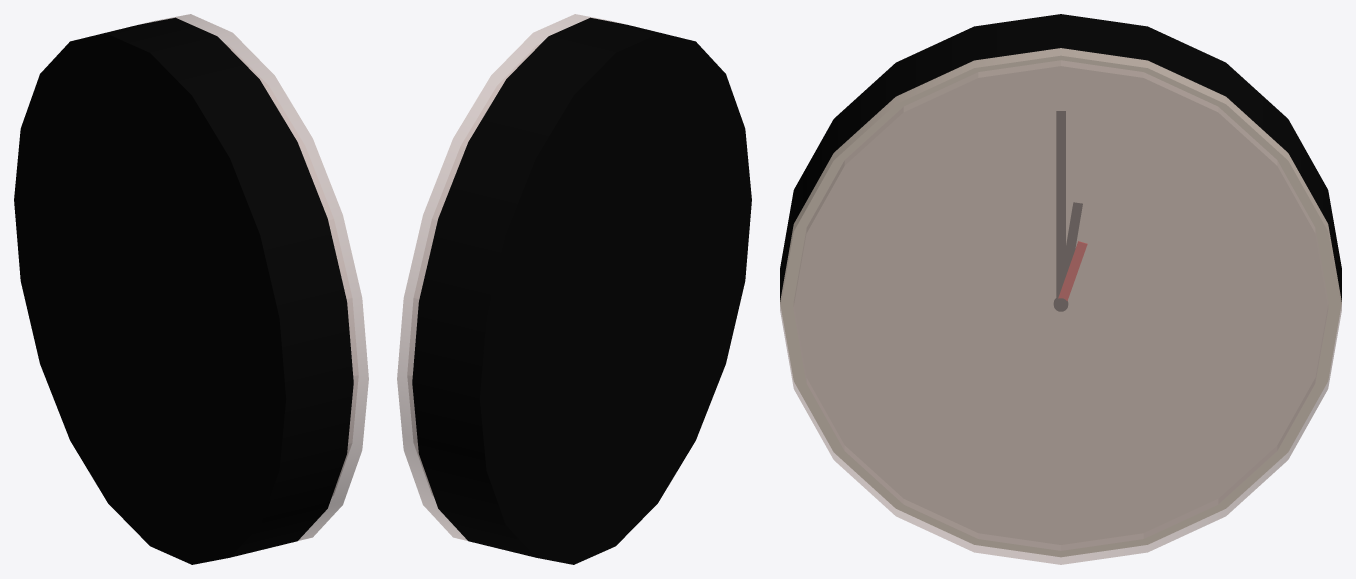
The model's file is reloj.fbx.
3 renders of one model, left to right at view 1: azimuth 30°, elevation 25°; view 2: azimuth 150°, elevation 25°; view 3: azimuth 270°, elevation 25°, orthographic. The views are drawn at different scales.
Parts seen in each view (by area): view 1: pCylinder27; view 2: pCylinder27; view 3: pCylinder27, pCube57, pCube58.
Part boxes in pixels (<box>): pCylinder27: <box>14,14,368,564</box>; pCylinder27: <box>397,14,751,564</box>; pCylinder27: <box>780,14,1341,564</box>; pCube57: <box>1056,111,1065,298</box>; pCube58: <box>1057,202,1082,297</box>.
Bounding box in the file's own units: 0.3512 × 2 × 2.
